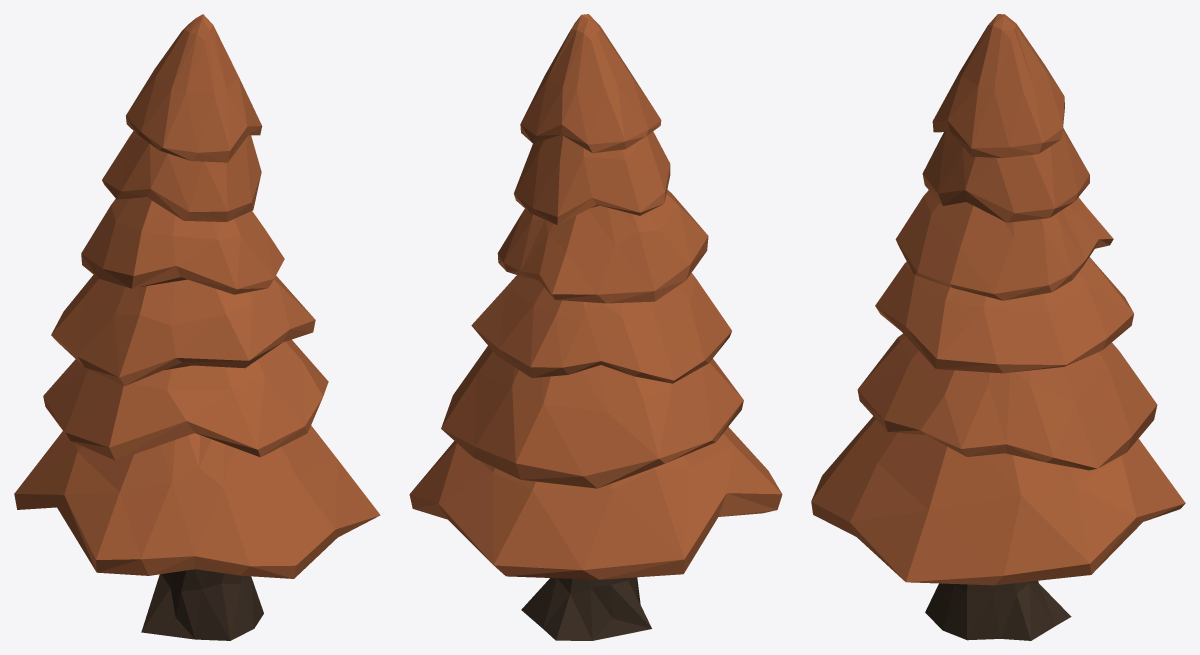
The model's file is pine_tree_1_autumn.glb.
3 views of the same model, side by side, from view 1: azimuth 30°, elevation 25°; view 2: azimuth 150°, elevation 25°; view 3: azimuth 270°, elevation 25° (orthographic).
Parts seen in each view (by area): view 1: pine_tree_1_autumn; view 2: pine_tree_1_autumn; view 3: pine_tree_1_autumn.
Part boxes in pixels (<box>): pine_tree_1_autumn: <box>14,14,380,640</box>; pine_tree_1_autumn: <box>409,14,782,640</box>; pine_tree_1_autumn: <box>811,14,1185,640</box>.
Size of the model in its own units: 2.75 by 5.42 by 3.01.
